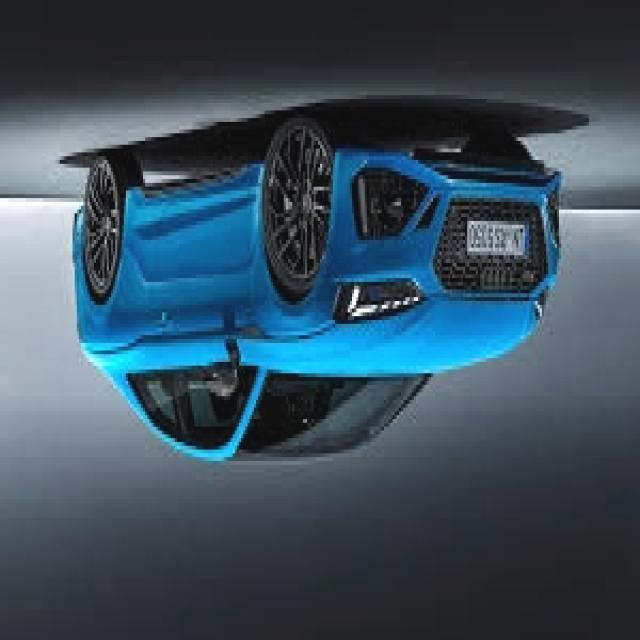blue: (74, 106, 559, 468)
